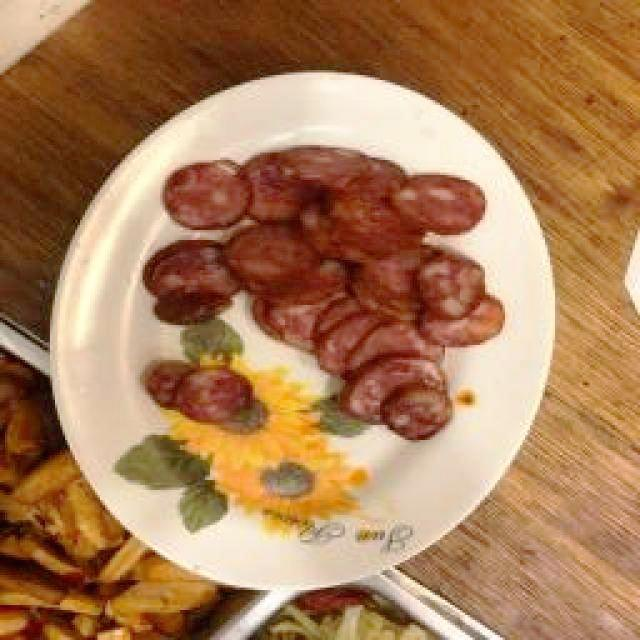chinese_sausage: (144, 145, 503, 440)
